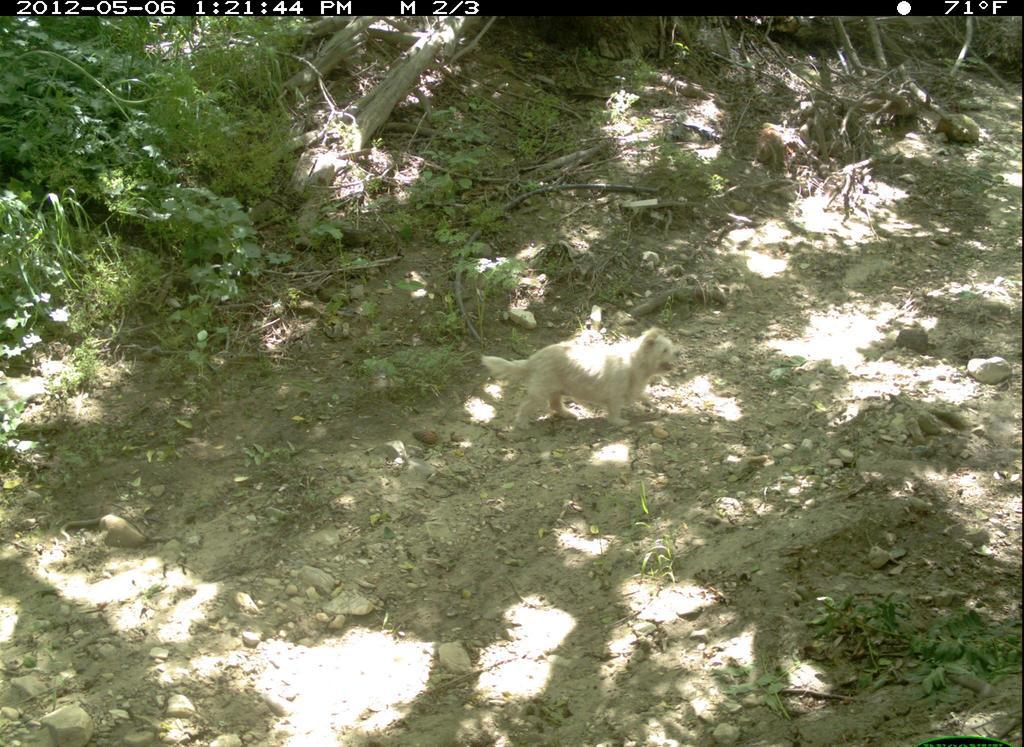dog: (479, 324, 685, 431)
